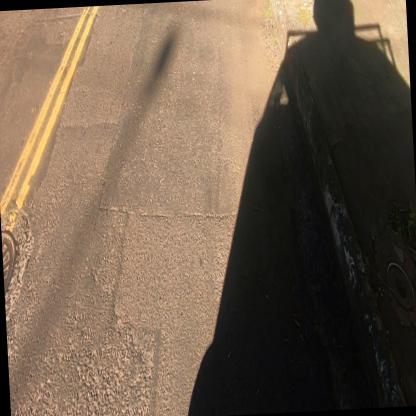manholes: (0, 196, 25, 324), (383, 248, 416, 324)
